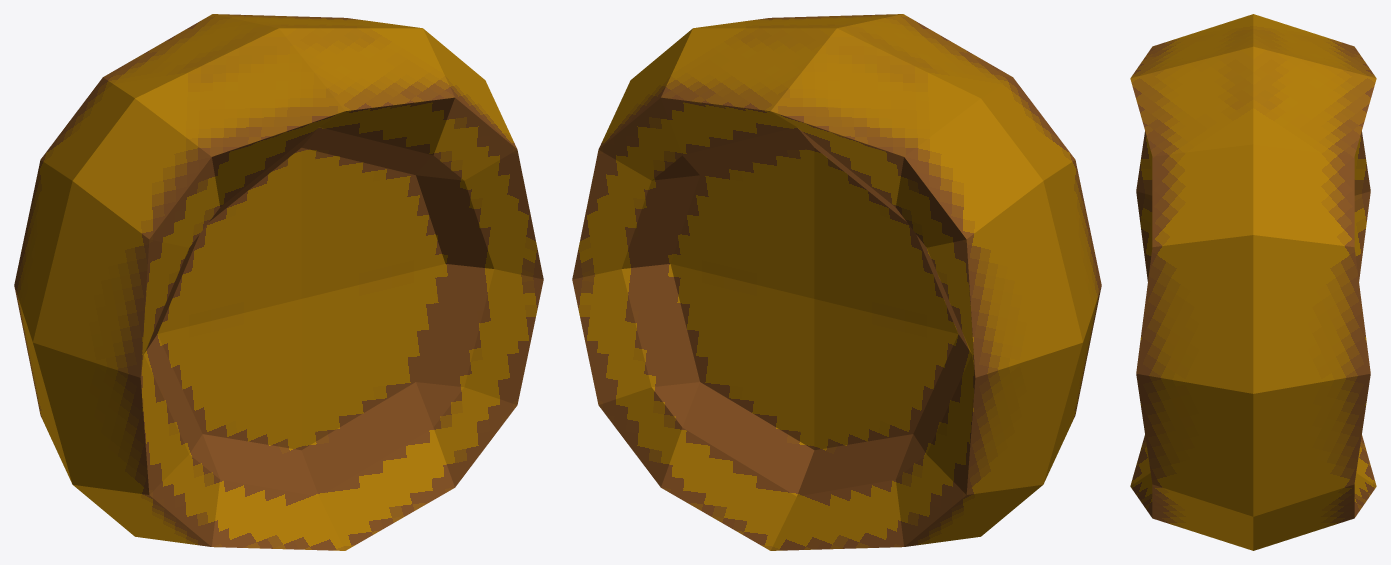
File: coin.glb
3 views of the same model, side by side, from view 1: azimuth 30°, elevation 25°; view 2: azimuth 150°, elevation 25°; view 3: azimuth 270°, elevation 25° (orthographic). The views are drawn at different scales.
Visible parts, largest first — view 1: Cube; view 2: Cube; view 3: Cube.
Boxes of the visible parts, box(x1,y1,x2,y2) form: Cube: box(14, 14, 543, 550); Cube: box(572, 14, 1101, 550); Cube: box(1130, 14, 1376, 550).
Bounding box in the file's own units: 1.61 × 1.59 × 0.7531.
1 material, 1 textured.
